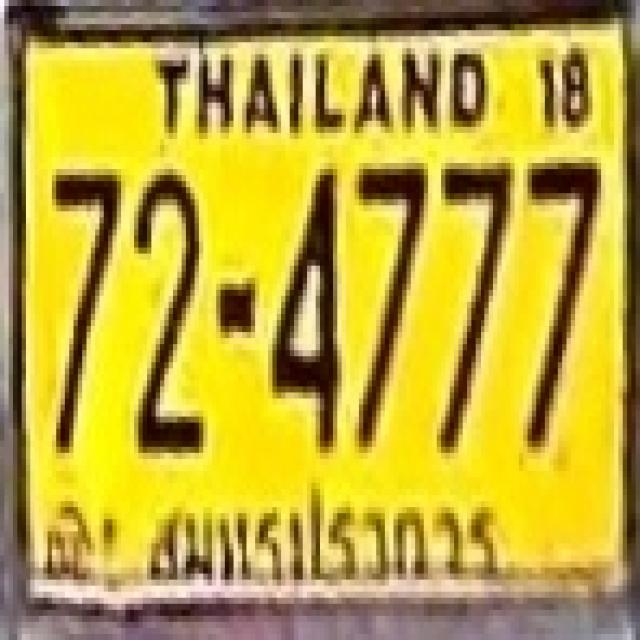2: (132, 166, 201, 432)
4: (268, 163, 337, 447)
7: (437, 157, 510, 447), (523, 157, 597, 441), (354, 160, 424, 444), (50, 169, 119, 447), (523, 157, 597, 386), (354, 160, 424, 383), (523, 157, 597, 350), (354, 157, 424, 350), (437, 157, 510, 338), (50, 166, 119, 353)
SPK: (141, 482, 511, 608)
